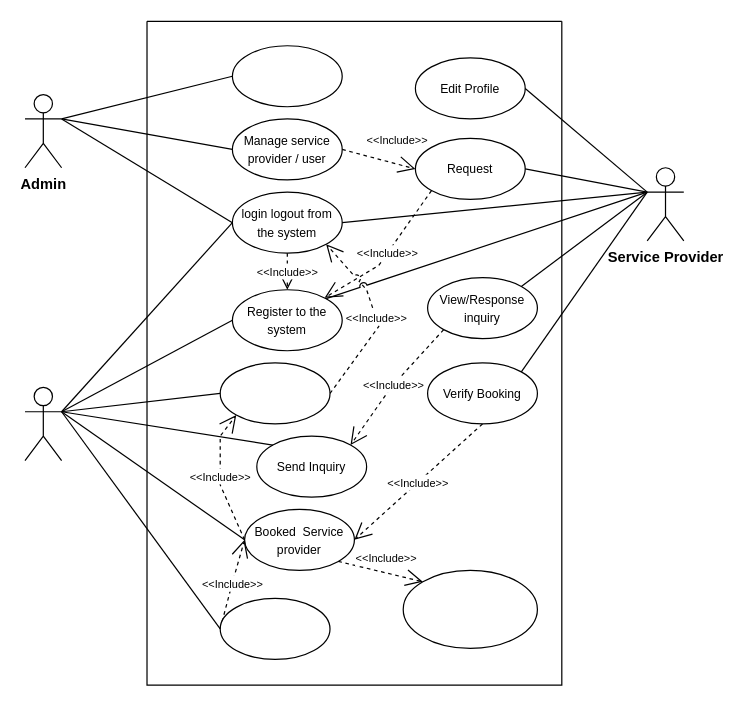
The diagram is 744 pixels wide and 706 high, and some of its shapes have lost their labels. Here are the shapes that lost their labels. From the top down, the centre of each, then its label:
[286,76]: Manage services
[274,393]: View/Search Services
[43,423]: Users
[274,628]: Review or Report
[469,608]: Search nearby Service provider using Dijkstra formula
